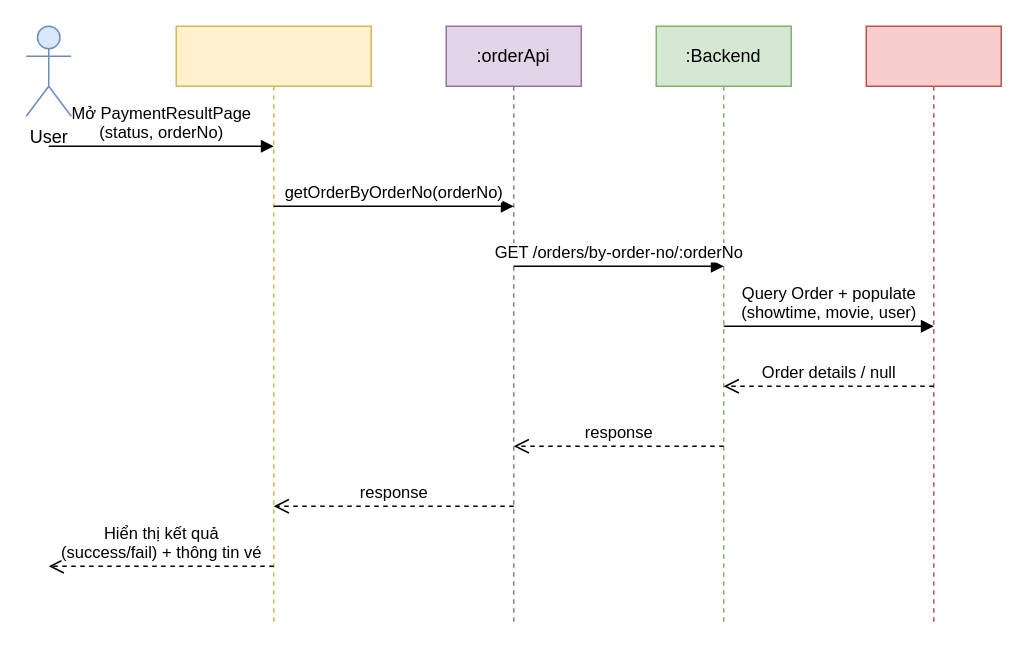
Some shapes in this 1028 by 653 pixel diagram are drawn without their labels. The box of each missing label's shape, as (x1, y1, x2, y2) in pixels:
:MongoDB: (865, 25, 1001, 626)
:PaymentResultPage: (175, 25, 371, 626)
